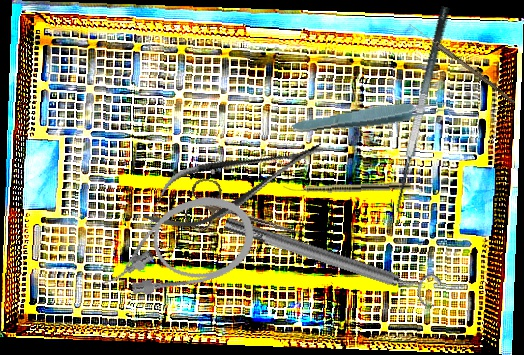Cannula: (87, 185, 266, 310)
Fixation Ring: (220, 204, 444, 312)
Handpiece: (281, 180, 412, 195)
Iris Scissors: (182, 175, 308, 256)
Micro Scissor: (133, 121, 334, 245)
Spatula Surgical: (384, 5, 469, 217)
Surgical Spoon: (406, 21, 518, 105)
Tissue Forceps: (291, 96, 449, 139)
